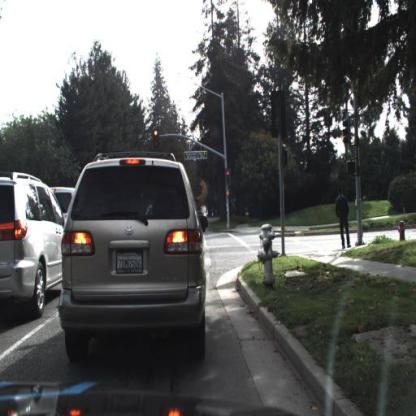car: (58, 155, 209, 363), (1, 172, 66, 314), (53, 179, 77, 215)
pedestrian: (336, 183, 351, 248)
trafficLight-Red: (153, 130, 161, 151), (224, 170, 232, 188)
